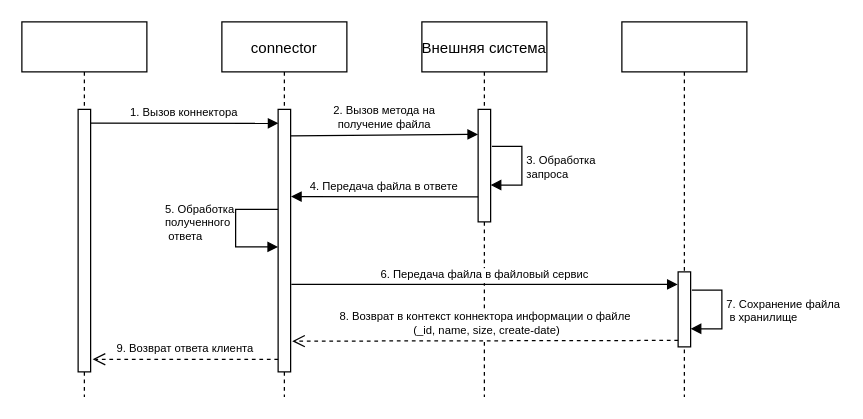
Image size: 863x419. Some labels were removed from this diagram. The box of each missing label's shape, as (x1, y1, x2, y2) in pixels:
file-service: (621, 21, 747, 397)
Клиент: (21, 21, 147, 397)
